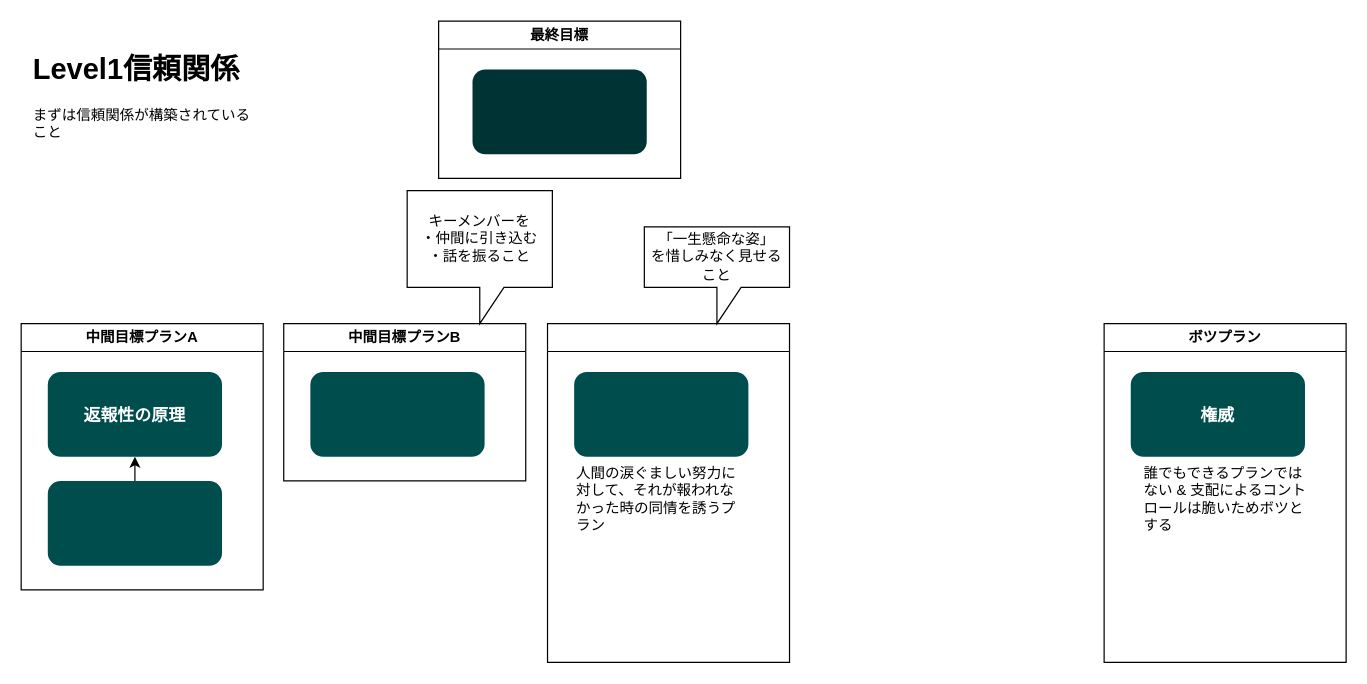
This 1367x684 diagram has some shape labels left out. The shapes that lost their labels are listed below. From the top down, each one's centre as x and y in pixels, then its label:
At pixel 559 111: "コントロールする or 動いてもらう".
At pixel 397 413: "社会的証明の原理 多数の原理".
At pixel 661 413: "努力".
At pixel 134 522: "好意".
